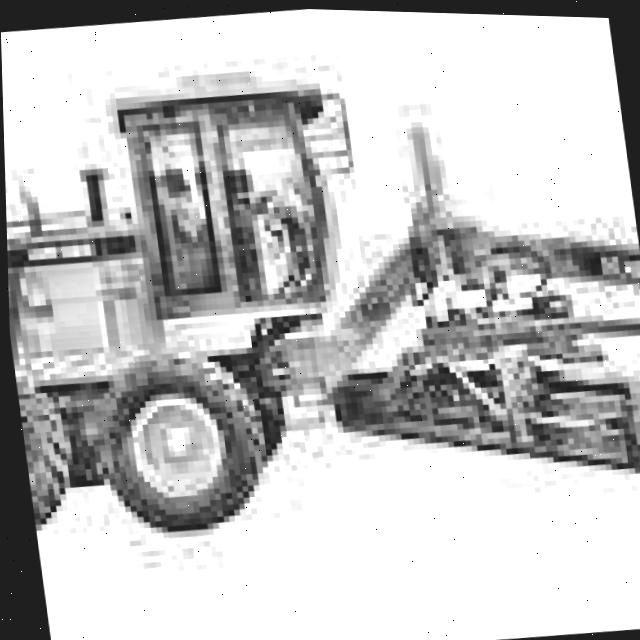buldozerpayloadergrader: (0, 0, 640, 613)
